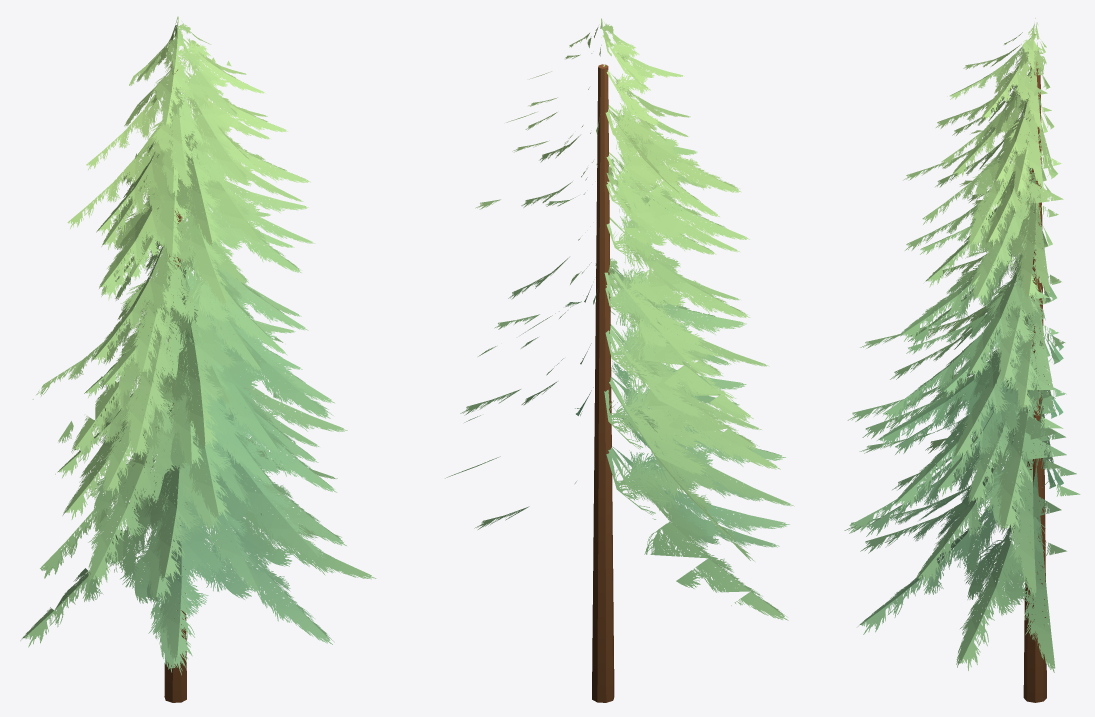
The model's file is pine_tree_05_27920.glb.
3 views of the same model, side by side, from view 1: azimuth 30°, elevation 25°; view 2: azimuth 150°, elevation 25°; view 3: azimuth 270°, elevation 25° (orthographic).
Visible parts, largest first — view 1: 02_Leaves, 01_Trunk; view 2: 02_Leaves, 01_Trunk; view 3: 02_Leaves, 01_Trunk.
Part boxes in pixels (bbox=[...]): 02_Leaves: bbox=[20, 16, 376, 675]; 01_Trunk: bbox=[164, 64, 186, 702]; 02_Leaves: bbox=[445, 18, 794, 620]; 01_Trunk: bbox=[592, 64, 614, 702]; 02_Leaves: bbox=[844, 18, 1080, 672]; 01_Trunk: bbox=[1023, 62, 1046, 702].
Size of the model in its own units: 5.47 by 10 by 3.34.
Materials: 2 (1 with a texture image).
